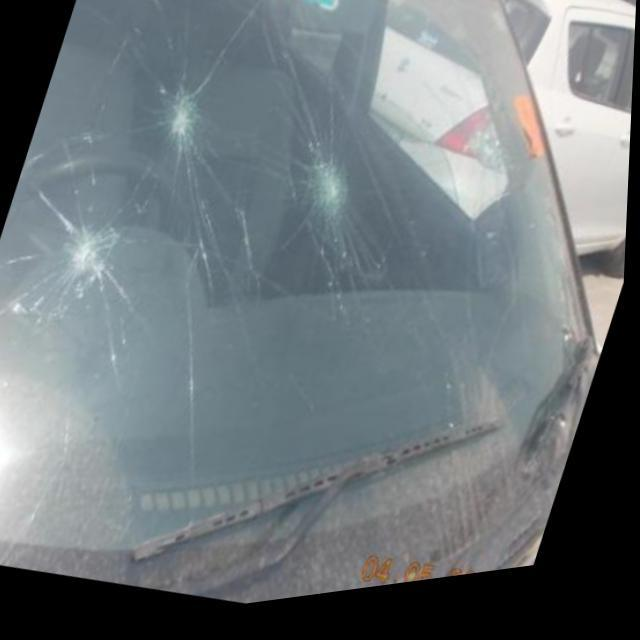glass shatter: (35, 188, 135, 308), (460, 128, 516, 200), (304, 167, 352, 238), (164, 92, 202, 151)
